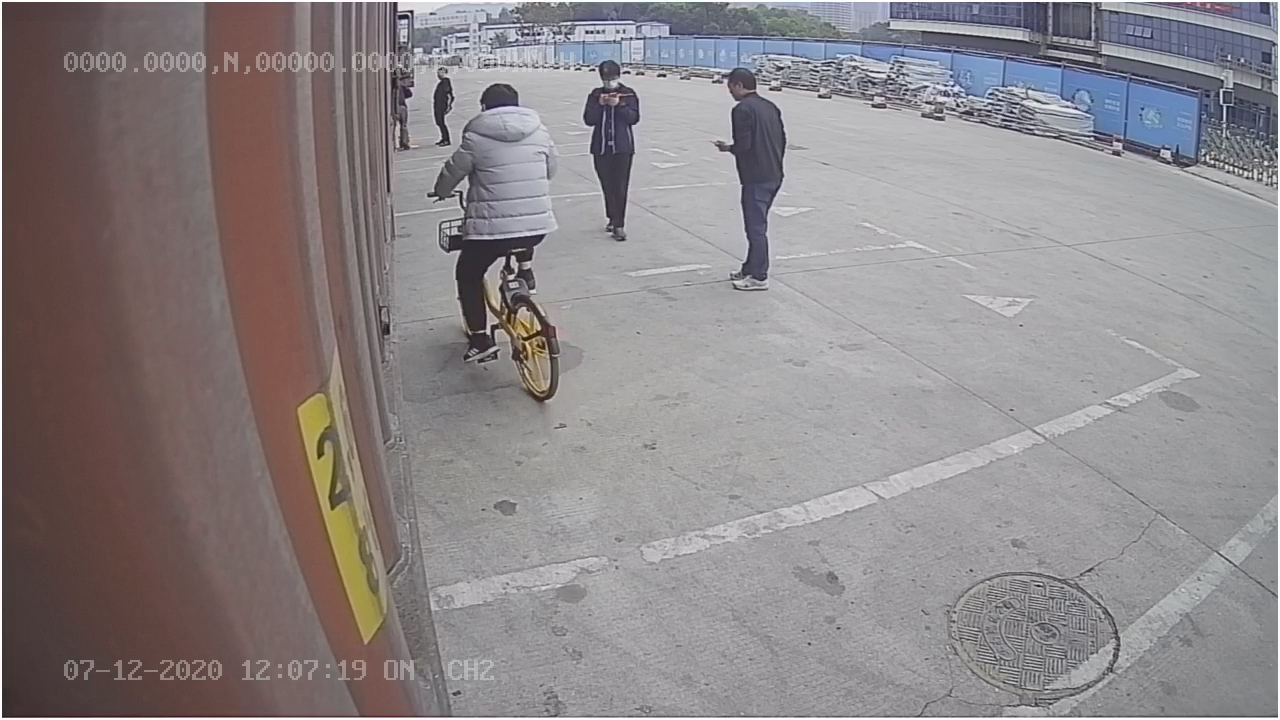person: (713, 63, 791, 296)
